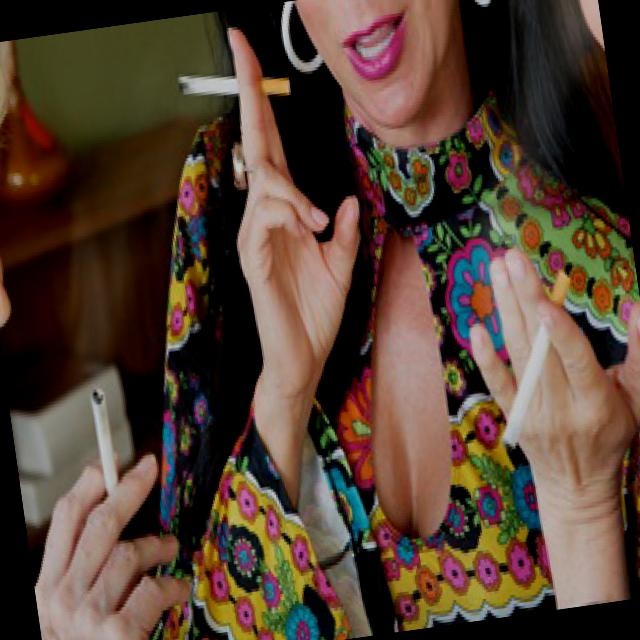smoke: (474, 264, 612, 458), (163, 52, 304, 124), (74, 352, 130, 530)
